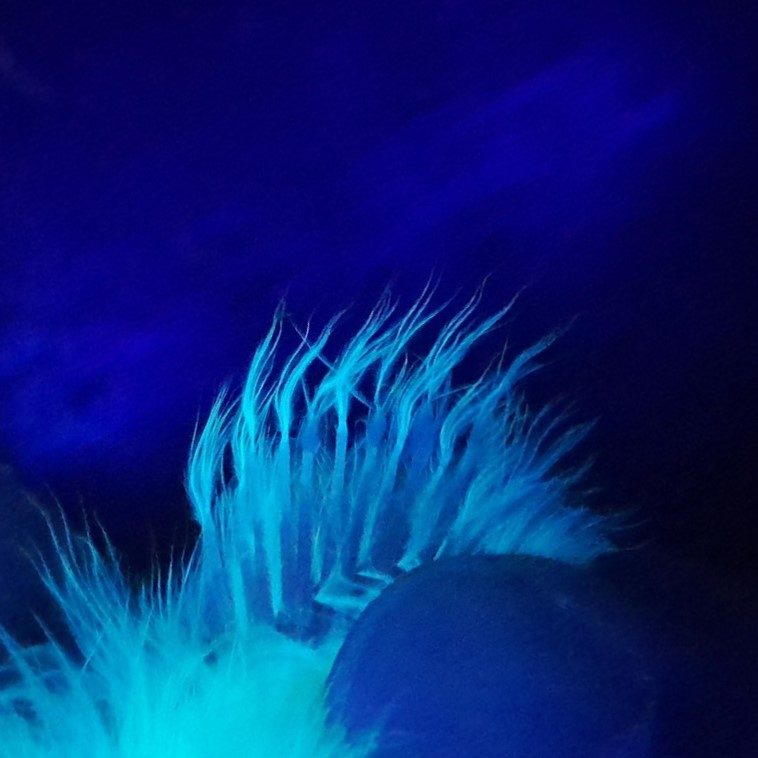male: (190, 399, 495, 638)
